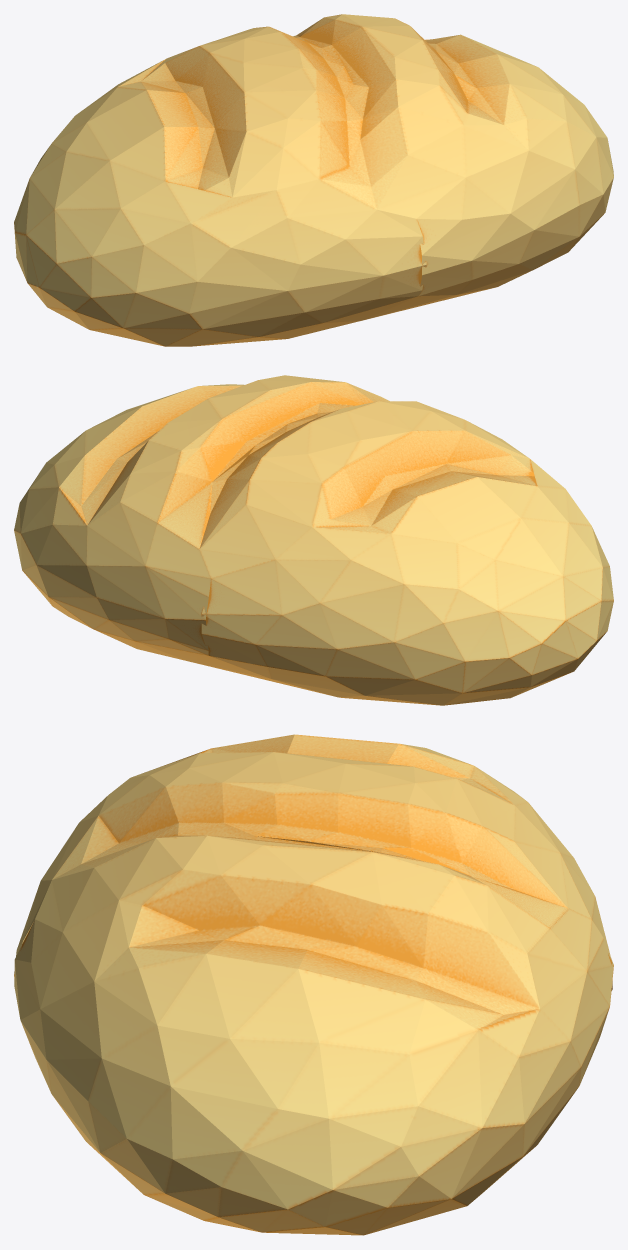
File: eat_bread.fbx
3 views of the same model, one above another, from view 1: azimuth 30°, elevation 25°; view 2: azimuth 150°, elevation 25°; view 3: azimuth 270°, elevation 25° (orthographic). The views are drawn at different scales.
Visible parts, largest first — view 1: eat_bread; view 2: eat_bread; view 3: eat_bread.
Part boxes in pixels (x1,y1,x2,y2): eat_bread: [14, 14, 613, 346]; eat_bread: [14, 375, 613, 705]; eat_bread: [14, 734, 613, 1235].
Bounding box in the file's own units: 98.57 × 36.86 × 67.67.
